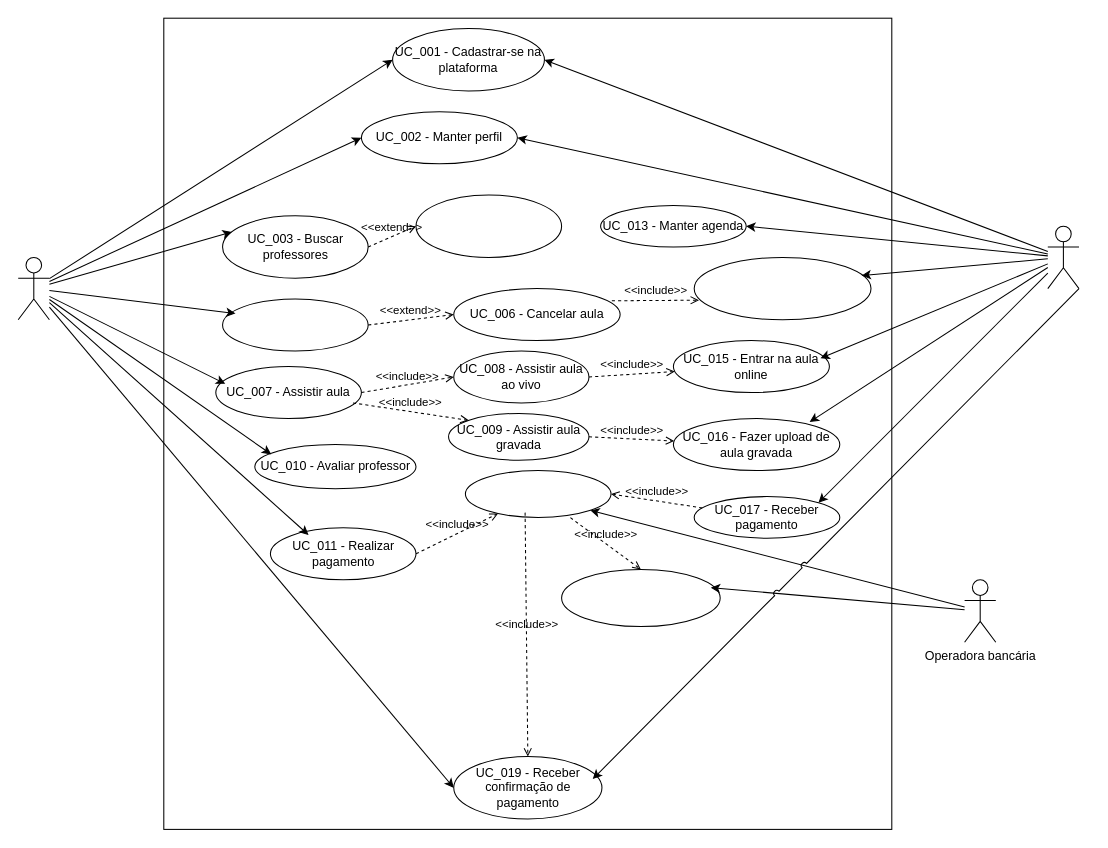
Some shapes in this 1108 by 848 pixel diagram are drawn without their labels. The centre of each missing label's shape, as x and y in pixels:
Aluno: the point at 33,288
Professor: the point at 1063,257
UC_004 - Usar filtros para a pesquisa: the point at 488,225
UC_005 - Agendar aula: the point at 295,324
UC_012 - Aprovar pagamento: the point at 537,493
UC_014 - Receber notificação de cancelamento de aula: the point at 782,288
UC_018 - Enviar confirmação de pagamento: the point at 640,597
